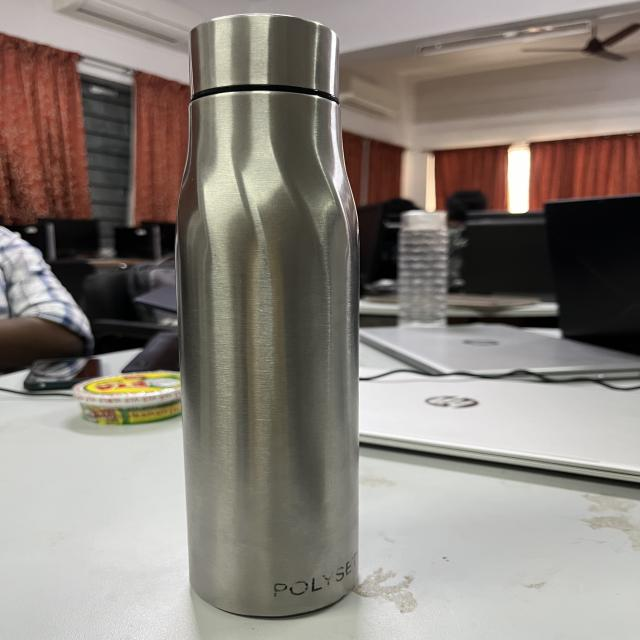L3: (165, 10, 384, 631)
